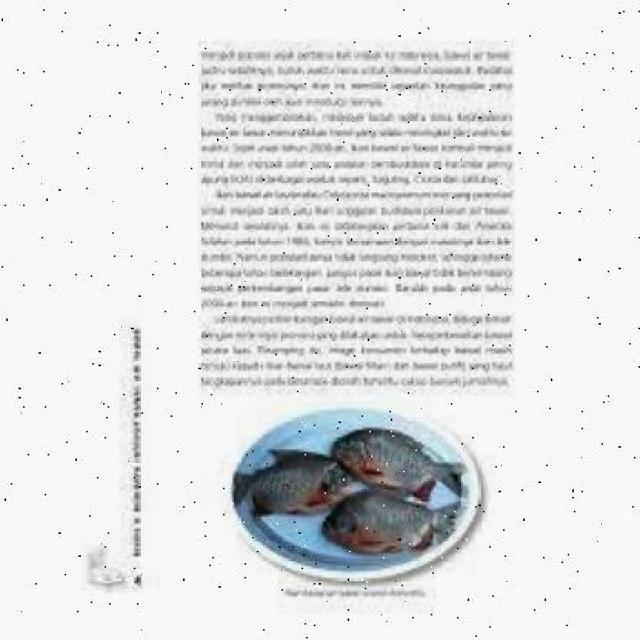ikan-pacu: (315, 486, 448, 557), (332, 428, 452, 490), (228, 453, 334, 512)
